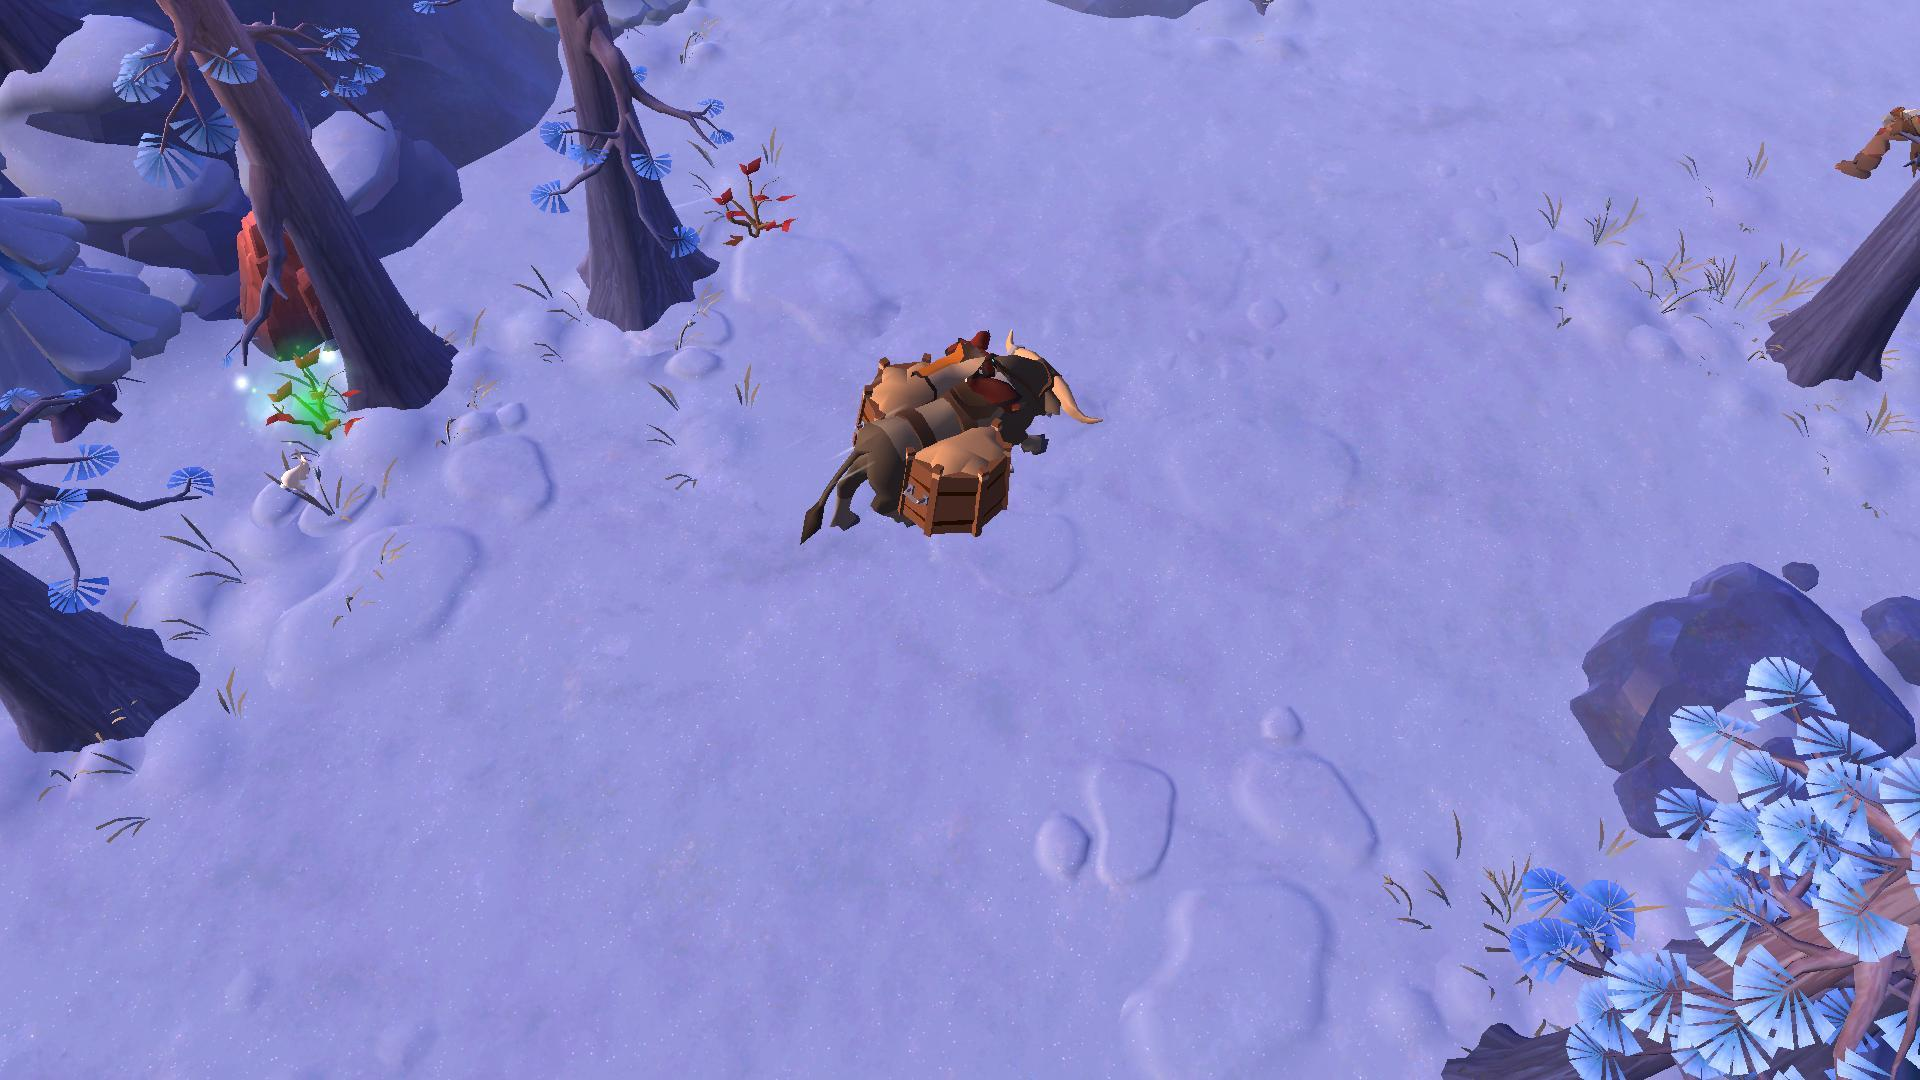rock_t5: (216, 211, 344, 371)
